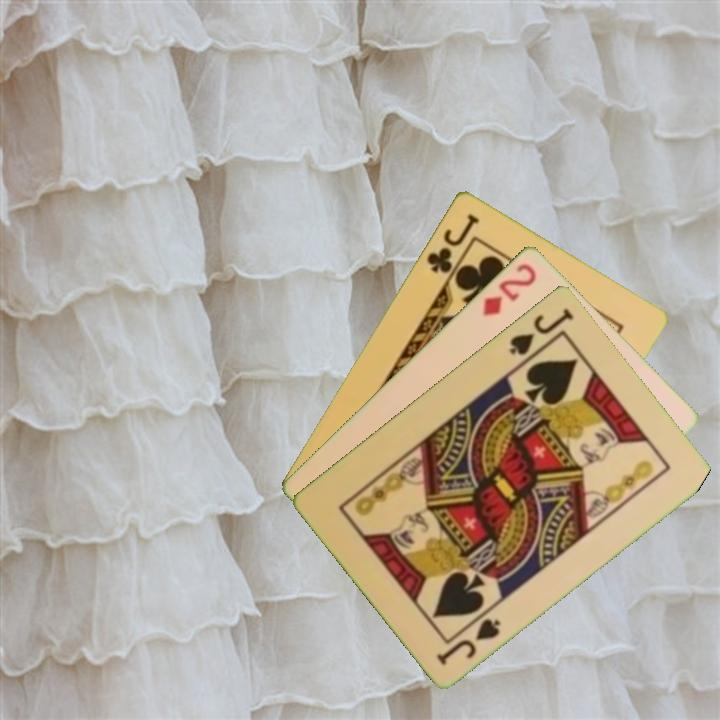2d: (479, 259, 540, 319)
Jc: (422, 209, 483, 276)
Js: (505, 304, 577, 358), (433, 614, 503, 668)
